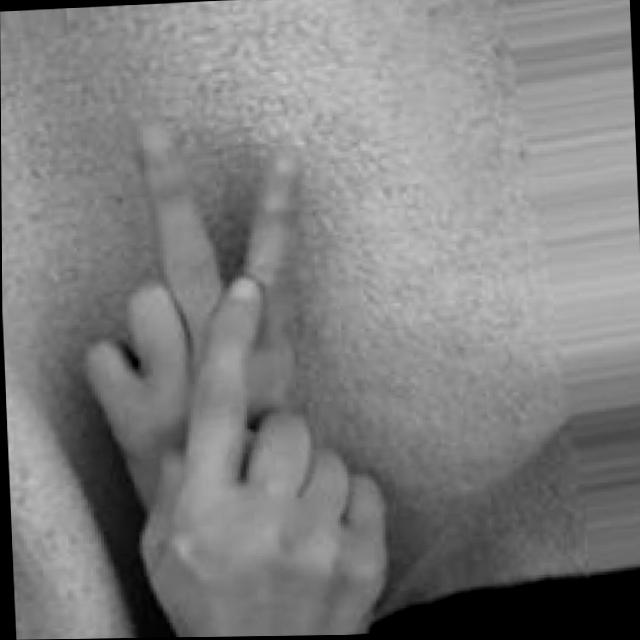Y: (65, 98, 395, 639)
